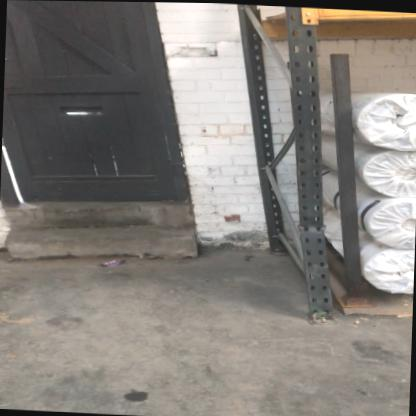vertical_damage: (293, 192, 335, 247)
